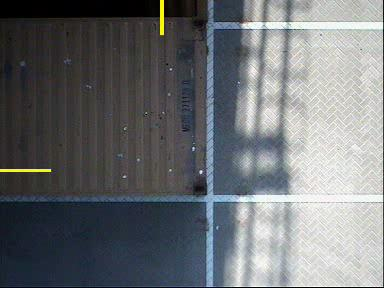groundmarker_2: (174, 45, 245, 90)
